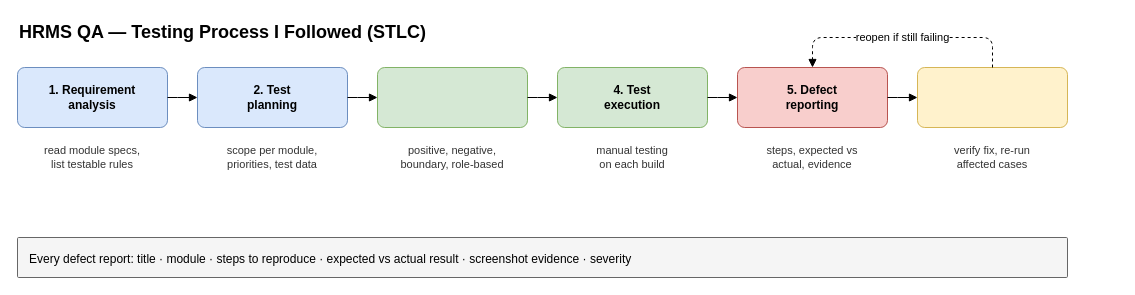
Some shapes in this 1135 by 295 pixel diagram are drawn without their labels. Here are the shapes that lost their labels. From the top down, the centre of each, then its label:
pixel 452 97: 3. Test case design
pixel 992 97: 6. Retest & regression
